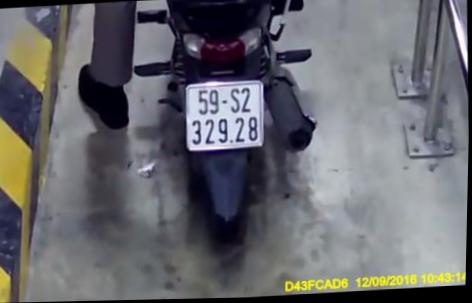LP: (184, 80, 266, 153)
